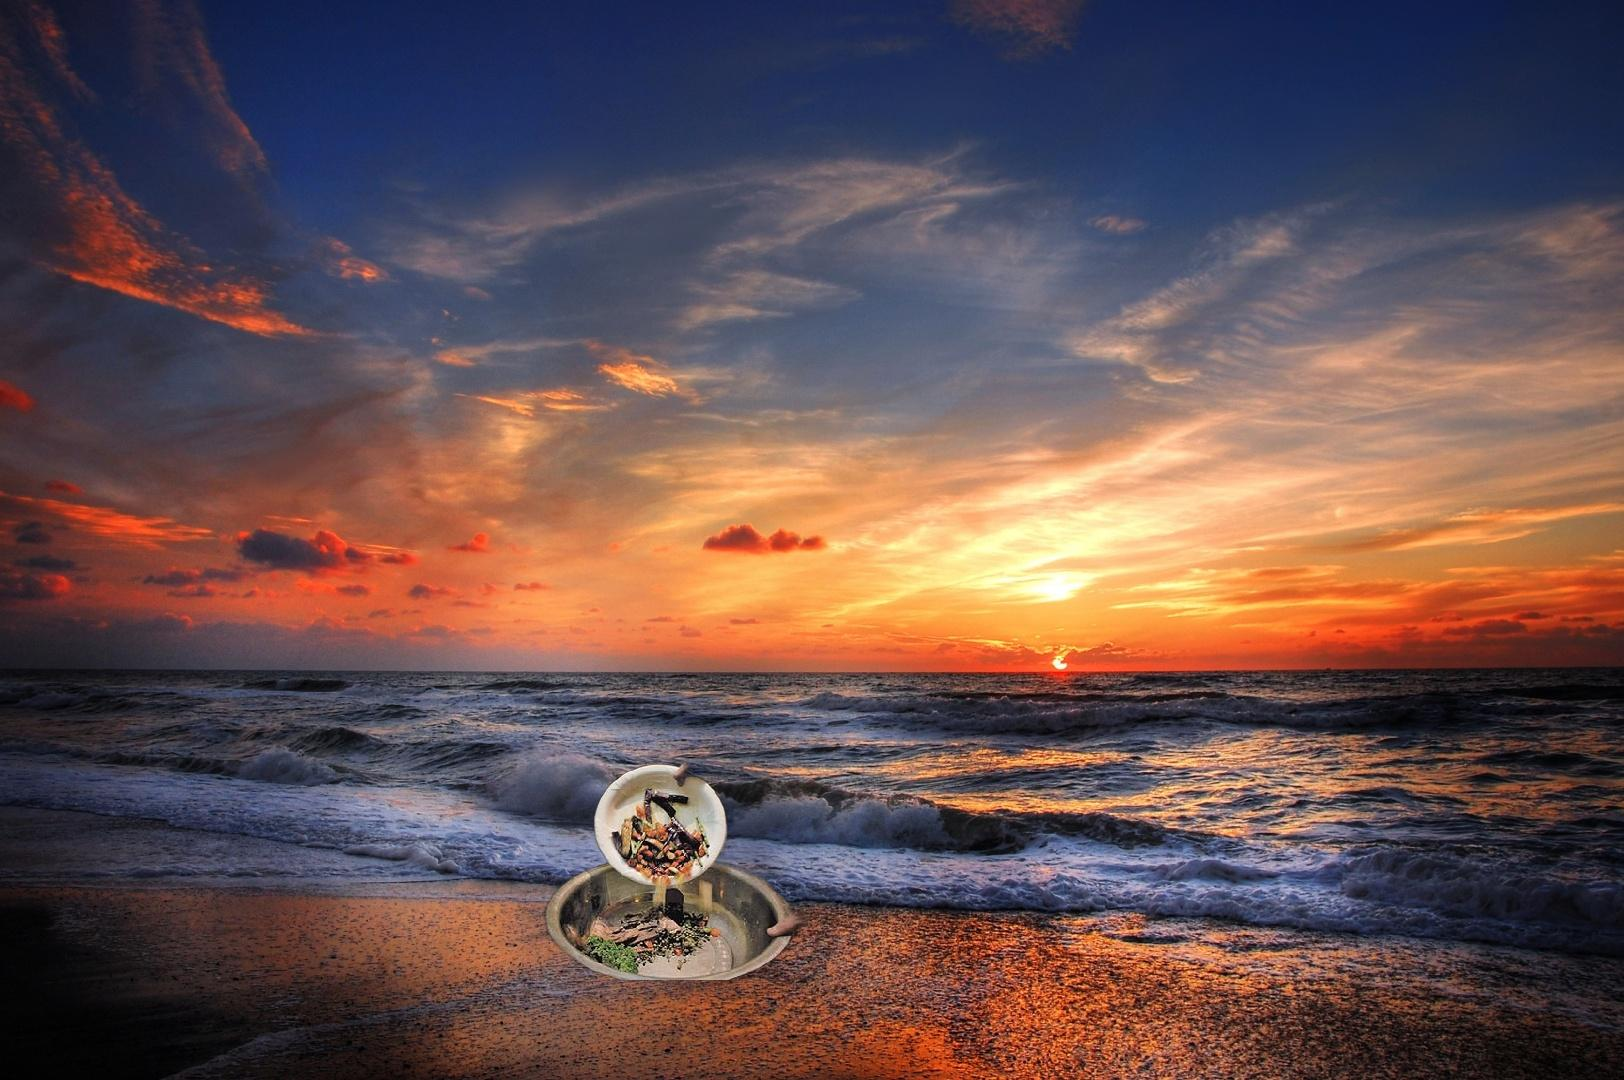biological: (541, 761, 839, 980)
